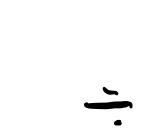div: (83, 87, 133, 125)
